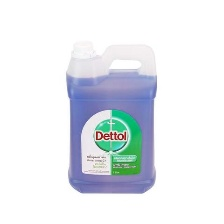cleaning_solution: (61, 35, 161, 199)
